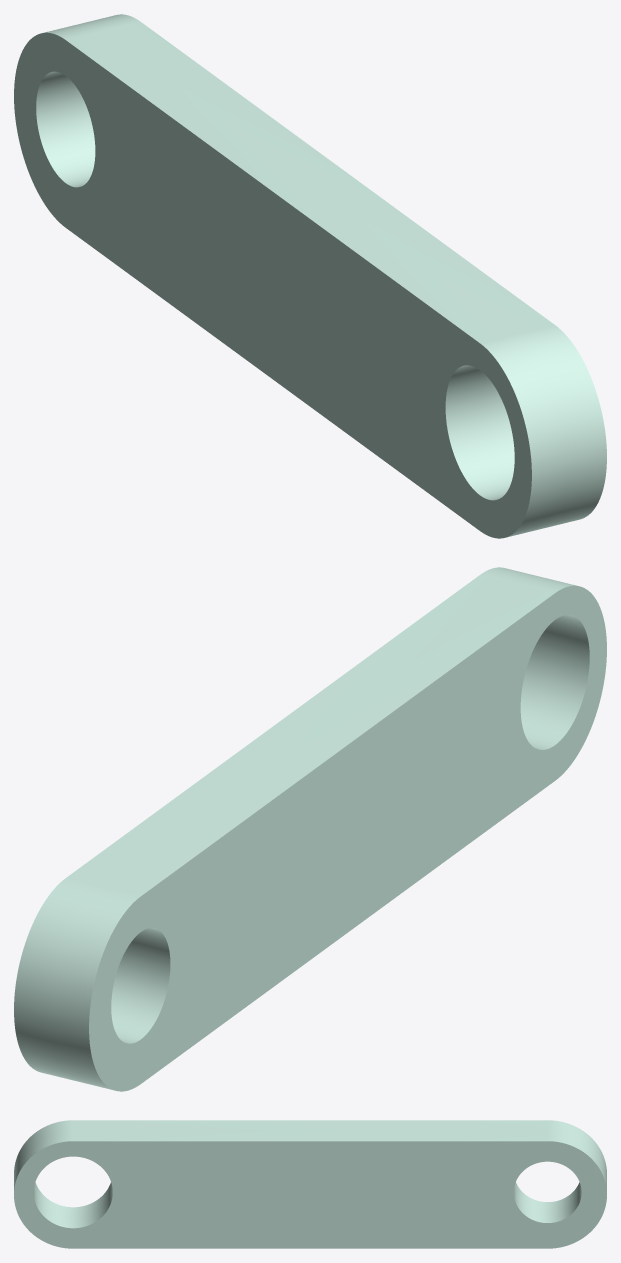
3 views of the same model, one above another, from view 1: azimuth 30°, elevation 25°; view 2: azimuth 150°, elevation 25°; view 3: azimuth 270°, elevation 25° (orthographic). The views are drawn at different scales.
Parts seen in each view (by area): view 1: Renderer Node; view 2: Renderer Node; view 3: Renderer Node.
Boxes of the visible parts, left/top/right/bottom form: Renderer Node: left=14, top=14, right=606, bottom=538; Renderer Node: left=14, top=567, right=606, bottom=1091; Renderer Node: left=14, top=1120, right=606, bottom=1248.
Size of the model in its own units: 0.125 by 0.2988 by 1.49.
